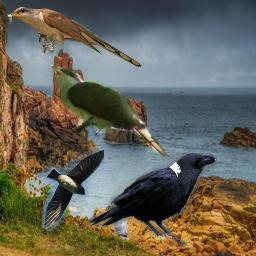Crow: (88, 153, 217, 246)
Cuckoo: (48, 65, 170, 158), (4, 6, 142, 67)
Swallow: (42, 148, 104, 231)
